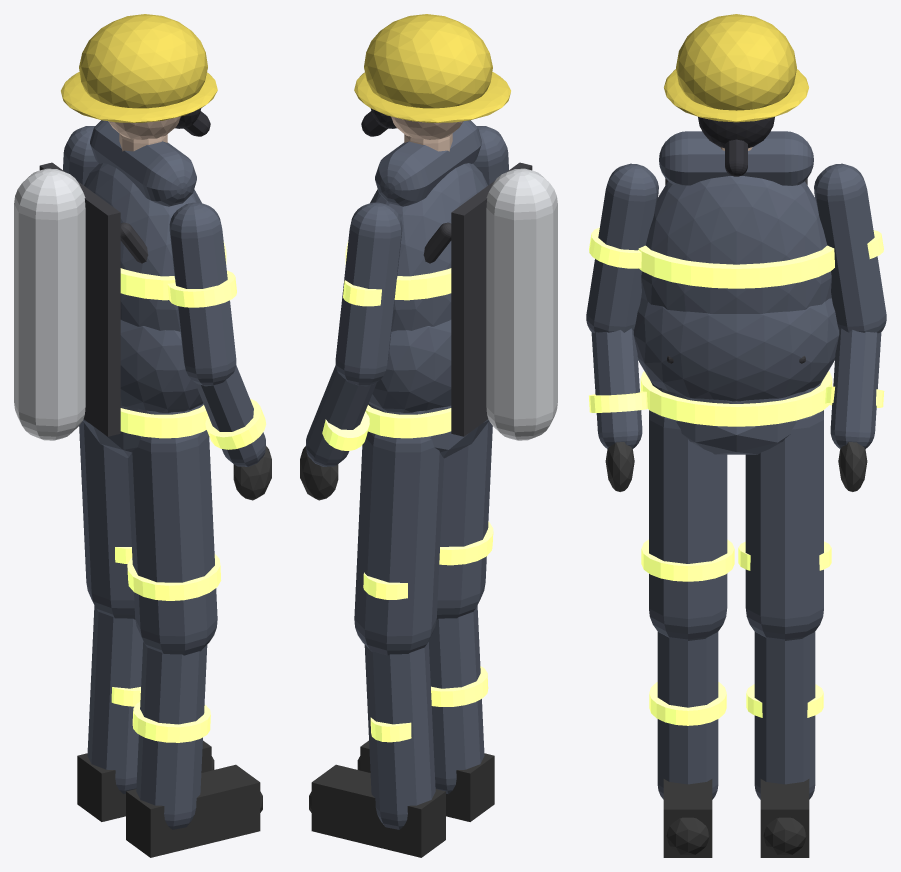
The model's file is firefighter.glb.
The picture shows the model from 3 angles, left to right: view 1: azimuth 30°, elevation 25°; view 2: azimuth 150°, elevation 25°; view 3: azimuth 270°, elevation 25°; orthographic projection.
Visible parts, largest first — view 1: turnout, tank, helmet, reflective, boots, gear, skin, gloves, mask; view 2: turnout, tank, helmet, boots, reflective, gear, skin, gloves, mask; view 3: turnout, reflective, helmet, boots, mask, gloves.
Part boxes in pixels (bbox=[...]): turnout: bbox=[63, 120, 265, 829]; tank: bbox=[14, 168, 85, 440]; helmet: bbox=[61, 14, 217, 122]; reflective: bbox=[111, 241, 266, 742]; boots: bbox=[77, 740, 262, 857]; gear: bbox=[39, 162, 148, 436]; skin: bbox=[108, 116, 180, 151]; gloves: bbox=[233, 446, 271, 500]; mask: bbox=[175, 108, 210, 136]; turnout: bbox=[306, 120, 508, 829]; tank: bbox=[486, 168, 557, 440]; helmet: bbox=[354, 14, 510, 122]; boots: bbox=[309, 740, 494, 857]; reflective: bbox=[322, 241, 493, 742]; gear: bbox=[423, 162, 532, 436]; skin: bbox=[391, 116, 463, 151]; gloves: bbox=[300, 446, 338, 500]; mask: bbox=[361, 108, 396, 136]; turnout: bbox=[586, 131, 886, 799]; reflective: bbox=[589, 227, 884, 725]; helmet: bbox=[664, 14, 808, 122]; boots: bbox=[663, 779, 809, 857]; mask: bbox=[698, 117, 774, 176]; gloves: bbox=[605, 442, 867, 491].
Bounding box in the file's own units: 0.515 × 1.82 × 0.6199.
